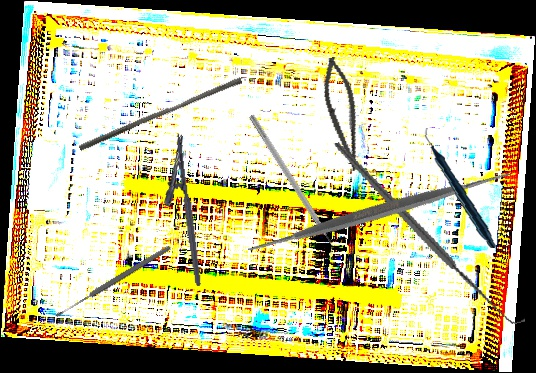Chopper: (241, 113, 341, 262)
Handpiece: (414, 127, 507, 249)
Hook Surgical: (333, 108, 526, 357)
Micro Scissor: (314, 54, 373, 174)
Needle Holder: (156, 132, 202, 289)
Pusher: (78, 71, 243, 158)
Spatula Surgical: (233, 66, 526, 358)
Surgical Spoon: (53, 243, 173, 320)
